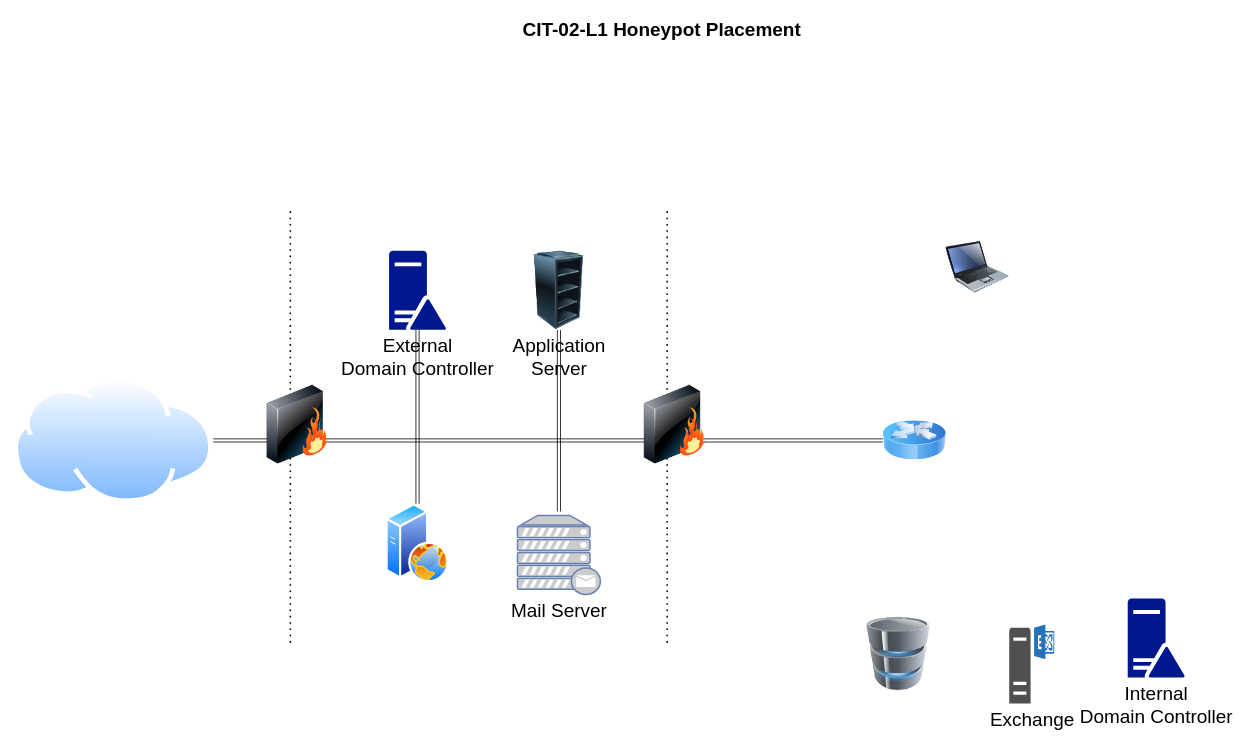
The diagram is 1246 pixels wide and 745 high, and some of its shapes have lost their labels. Each missing label, with the box of its shape:
Database: (867, 614, 930, 693)
Web Server: (379, 503, 455, 582)
